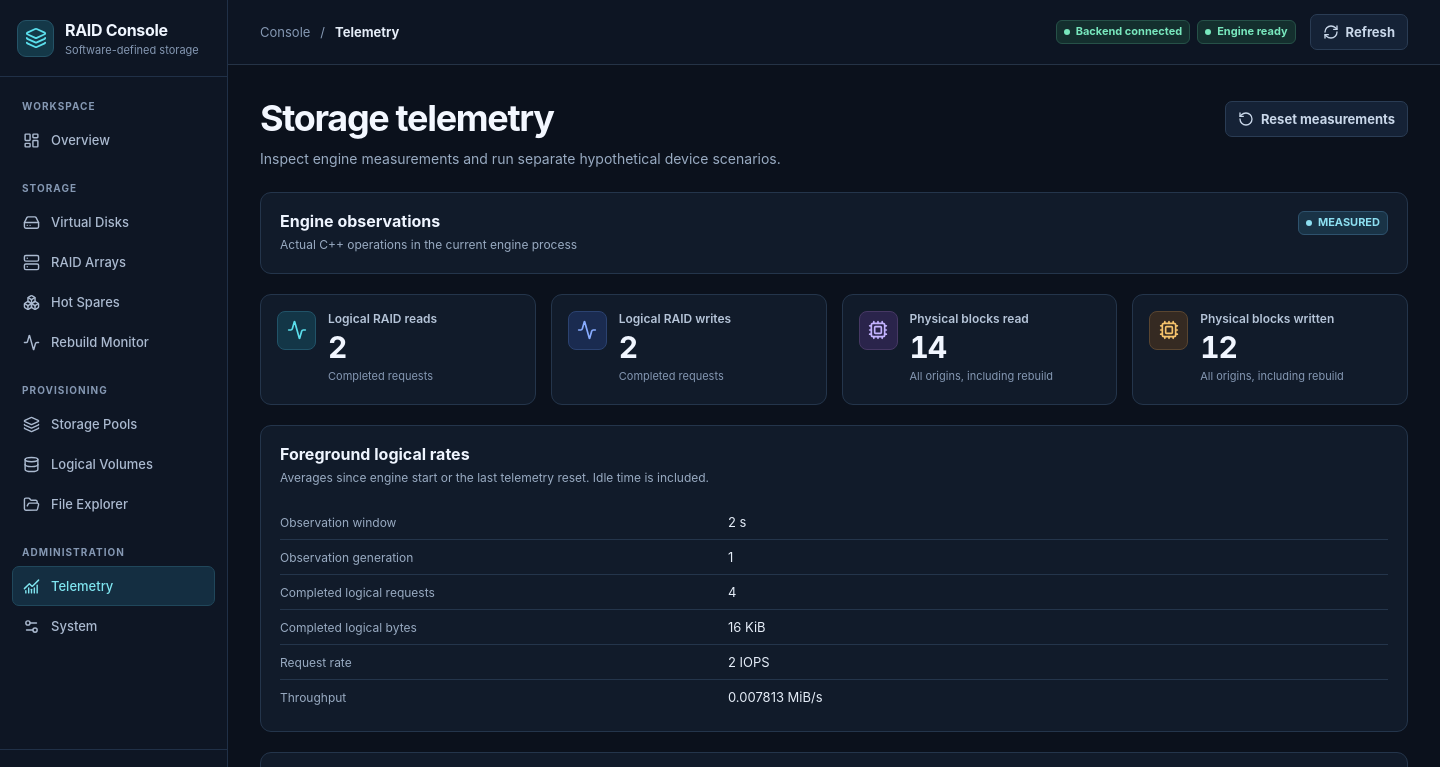
Test: storage telemetry › requires explicit reset confirmation and refreshes the measurement window
Expected: the text "2 IOPS" is shown, [728,654,770,670]
Click the button "Reset measurements" at (1316, 119), box [1225,101,1408,137]
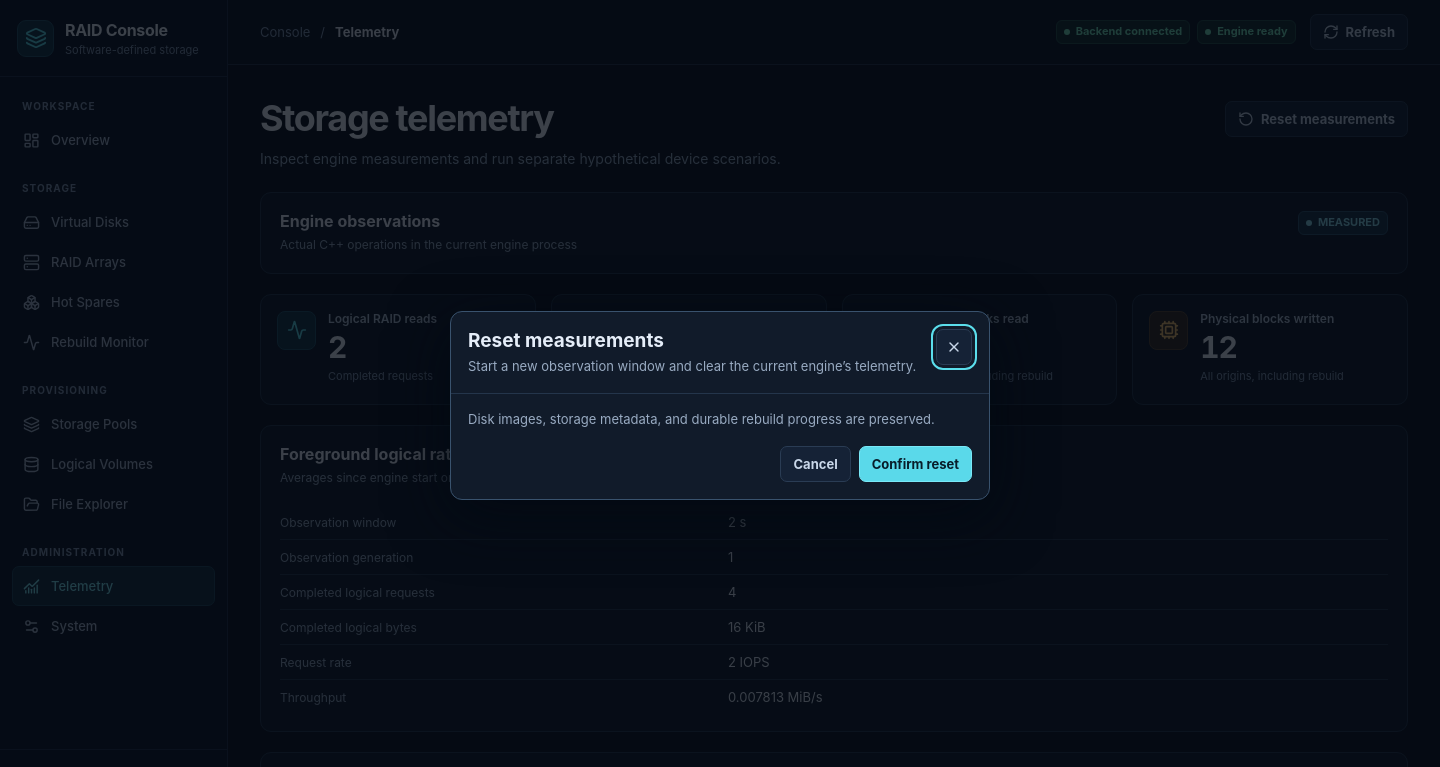
Result: the text "durable rebuild progress are preserved" is shown at [468,411,935,427]
Click the button "Confirm reset" at (915, 464), box [859,446,972,482]
(page scrolled)
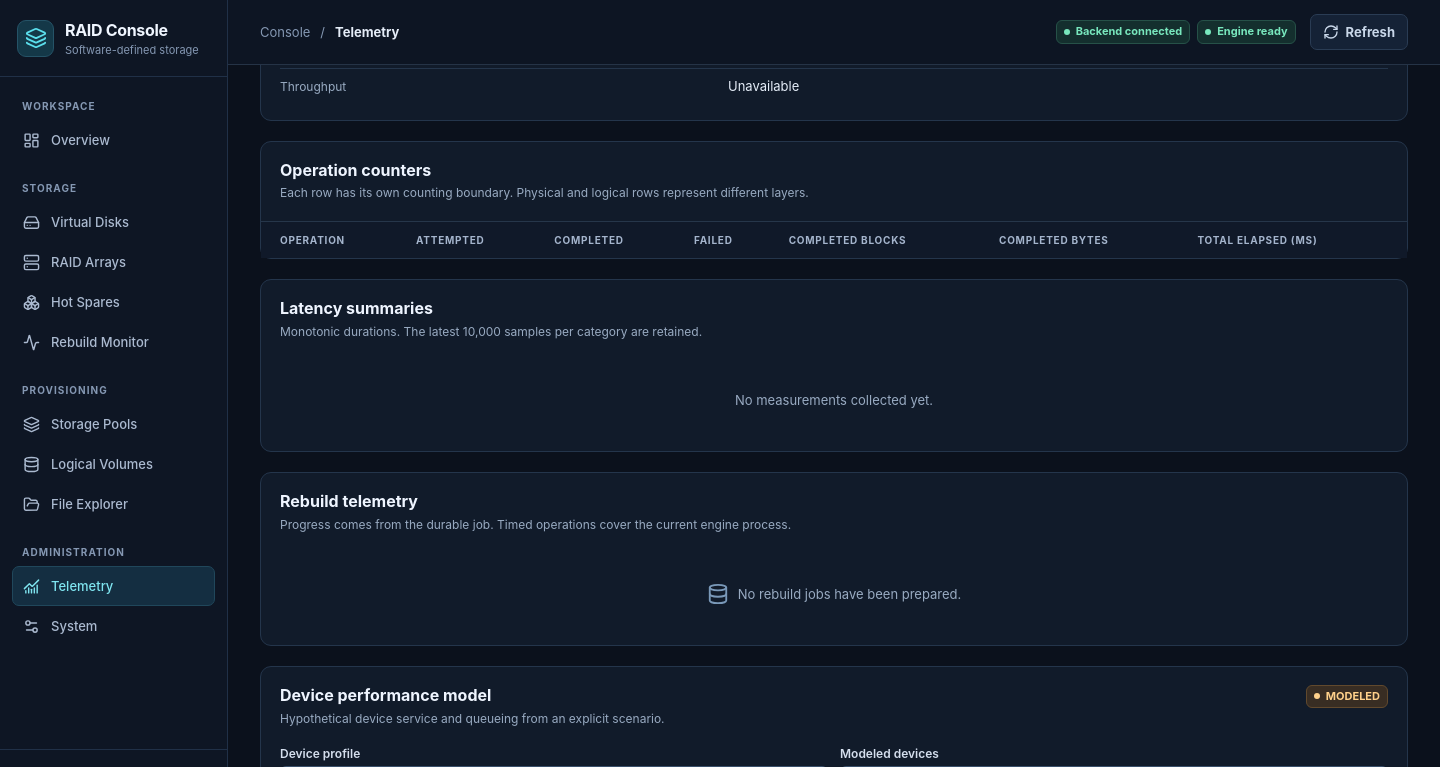
Result: the text "No measurements collected yet." is shown at [735,392,933,408]
